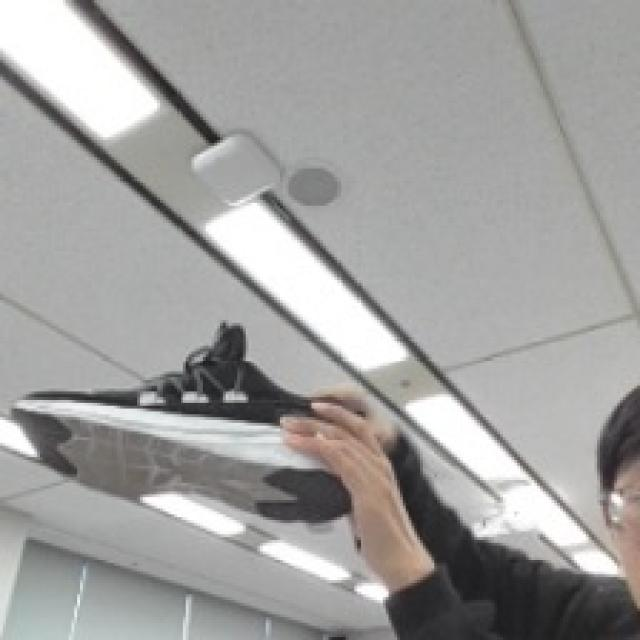shoe: (27, 314, 388, 502)
